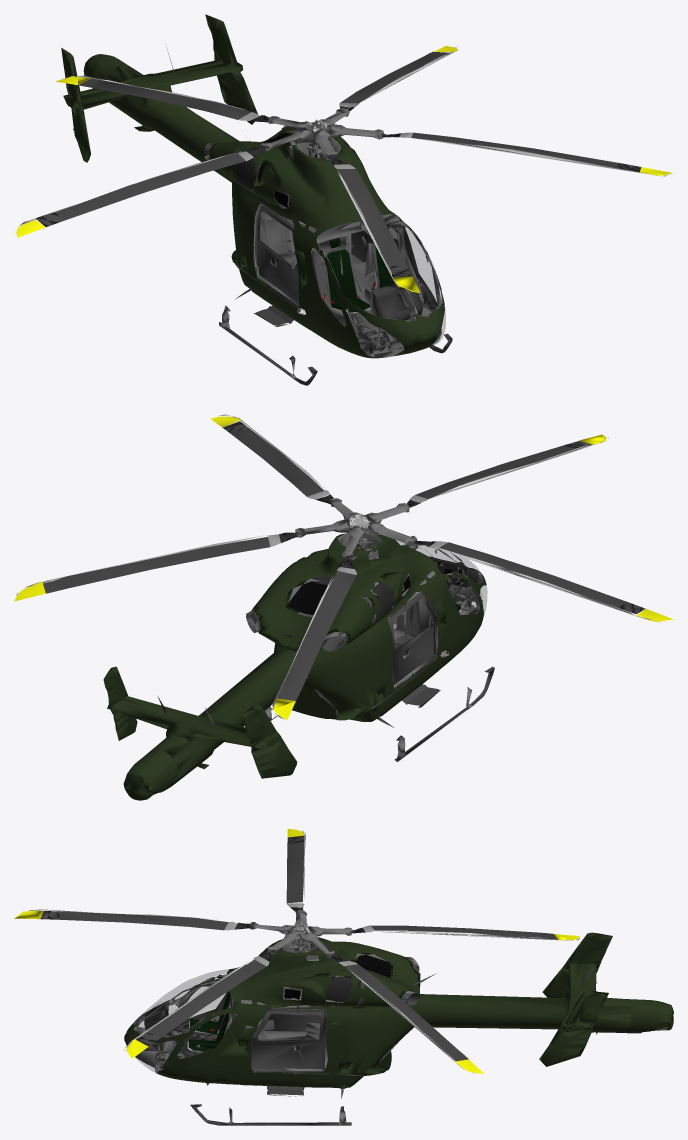
The model's file is ZEONIXUBICA.glb.
The picture shows the model from 3 angles, top to bottom: view 1: azimuth 30°, elevation 25°; view 2: azimuth 150°, elevation 25°; view 3: azimuth 270°, elevation 25°; orthographic projection. The views are drawn at different scales.
Parts seen in each view (by area): view 1: object.001_Color_A06_0_34, rotor_M_24_0_19, object.013_Color_006_0_56, object.012__Charcoal__0_54, rotor__LightGray__0_20, Right_door__Charcoal__0_6, rotor_Color_006_0_15, object.025_M_0134_DimGray_0_80, object.026_Color_002_0_82, rotor_GELB_0_18, object.006_Translucent_Glass_Gray_0_44; view 2: object.001_Color_A06_0_34, rotor_M_24_0_19, object.013_Color_006_0_56, rotor__LightGray__0_20, Right_door__Charcoal__0_6, rotor_Color_006_0_15, object.012__Charcoal__0_54, rotor_GELB_0_18, object.027_Color_A06_0_84, object.019_black2_0_68, object.008_Fencing_Mesh_Blue_0_48, object.026_Color_002_0_82 (+1 smaller); view 3: object.001_Color_A06_0_34, rotor_M_24_0_19, object.013_Color_006_0_56, Left_door__Charcoal__0_25, object.012__Charcoal__0_54, rotor__LightGray__0_20, rotor_Color_006_0_15, object.006_Translucent_Glass_Gray_0_44, rotor_GELB_0_18, object.025_M_0134_DimGray_0_80, Right_door__Charcoal__0_6, object.019_black2_0_68 (+2 smaller).
Part boxes in pixels (<box>): object.001_Color_A06_0_34: <box>61,14,444,358</box>; rotor_M_24_0_19: <box>36,51,641,277</box>; object.013_Color_006_0_56: <box>204,125,442,378</box>; object.012__Charcoal__0_54: <box>123,49,452,385</box>; rotor__LightGray__0_20: <box>14,47,670,292</box>; Right_door__Charcoal__0_6: <box>254,205,299,308</box>; rotor_Color_006_0_15: <box>261,108,383,157</box>; object.025_M_0134_DimGray_0_80: <box>326,224,399,311</box>; object.026_Color_002_0_82: <box>260,219,429,327</box>; rotor_GELB_0_18: <box>16,46,673,293</box>; object.006_Translucent_Glass_Gray_0_44: <box>382,222,445,357</box>; object.001_Color_A06_0_34: <box>103,532,486,800</box>; rotor_M_24_0_19: <box>43,421,645,700</box>; object.013_Color_006_0_56: <box>246,533,485,761</box>; rotor__LightGray__0_20: <box>16,414,665,719</box>; Right_door__Charcoal__0_6: <box>387,592,437,684</box>; rotor_Color_006_0_15: <box>295,498,415,558</box>; object.012__Charcoal__0_54: <box>152,543,494,795</box>; rotor_GELB_0_18: <box>14,416,673,719</box>; object.027_Color_A06_0_84: <box>292,689,336,719</box>; object.019_black2_0_68: <box>282,559,477,616</box>; object.008_Fencing_Mesh_Blue_0_48: <box>288,581,328,615</box>; object.026_Color_002_0_82: <box>394,601,429,644</box>; object.001_Color_A06_0_34: <box>124,932,673,1088</box>; rotor_M_24_0_19: <box>40,836,557,1061</box>; object.013_Color_006_0_56: <box>133,939,419,1124</box>; Left_door__Charcoal__0_25: <box>251,1009,326,1074</box>; object.012__Charcoal__0_54: <box>134,943,666,1125</box>; rotor__LightGray__0_20: <box>18,829,580,1073</box>; rotor_Color_006_0_15: <box>250,910,352,956</box>; object.006_Translucent_Glass_Gray_0_44: <box>135,969,228,1072</box>; rotor_GELB_0_18: <box>14,829,579,1073</box>; object.025_M_0134_DimGray_0_80: <box>188,991,231,1051</box>; Right_door__Charcoal__0_6: <box>265,1008,320,1031</box>; object.019_black2_0_68: <box>141,941,666,1061</box>.
Bounding box in the file's own units: 1200 × 431 × 1473.
